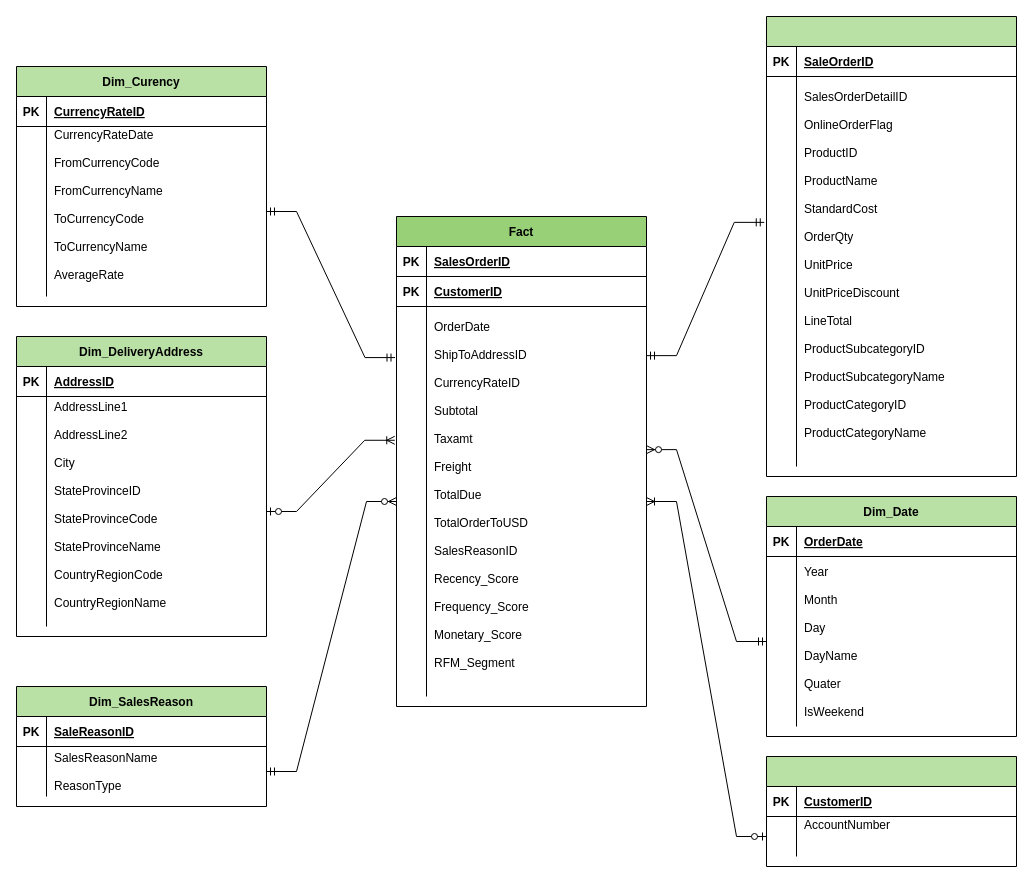
This 1033x883 diagram has some shape labels left out. The shapes that lost their labels are listed below. From the top down, each one's box as (x1, y1, x2, y2) in pixels, then its label:
(766, 16, 1016, 476): Dim_DetailOrder
(766, 756, 1016, 866): Dim_Customer
